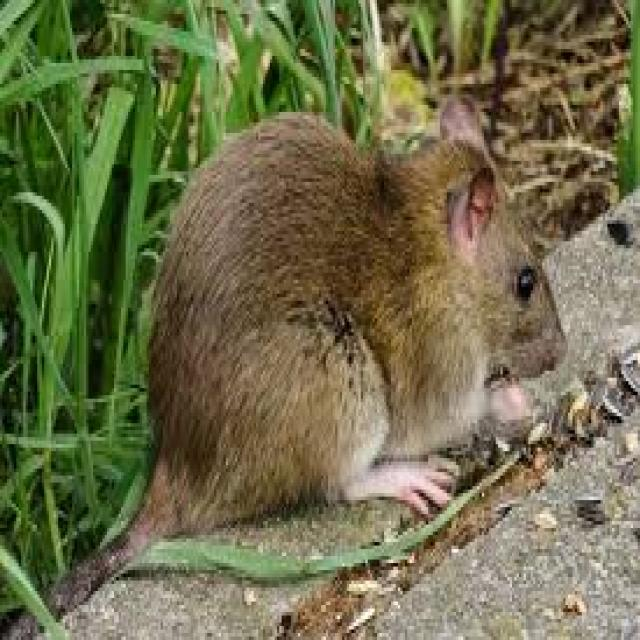rat: (28, 91, 568, 626)
